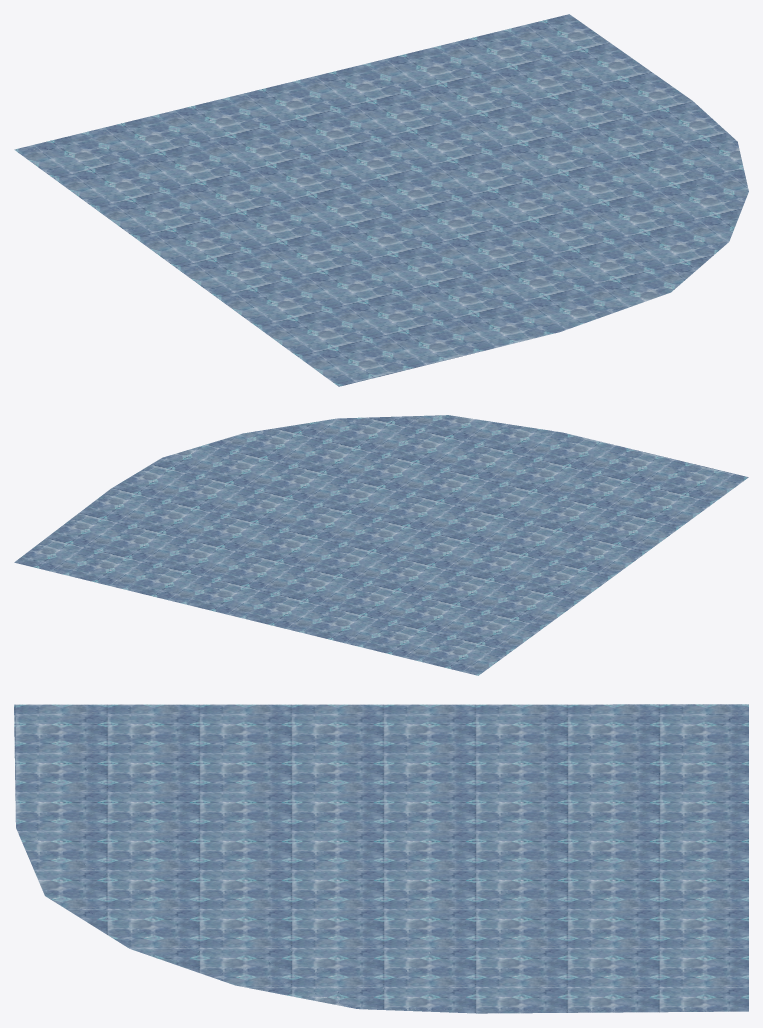
The model's file is fb_bingdongdixiamushi_terrain.FBX.
The picture shows the model from 3 angles, top to bottom: view 1: azimuth 30°, elevation 25°; view 2: azimuth 150°, elevation 25°; view 3: azimuth 270°, elevation 25°; orthographic projection. The views are drawn at different scales.
Parts seen in each view (by area): view 1: fb_bingdongdixiamushi_terrain; view 2: fb_bingdongdixiamushi_terrain; view 3: fb_bingdongdixiamushi_terrain.
Part boxes in pixels (left/top/right/bottom): fb_bingdongdixiamushi_terrain: left=14, top=14, right=748, bottom=386; fb_bingdongdixiamushi_terrain: left=14, top=415, right=748, bottom=675; fb_bingdongdixiamushi_terrain: left=14, top=704, right=748, bottom=1013.
Bounding box in the file's own units: 4541 × 1.29e-12 × 4563.
